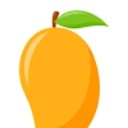mango: (20, 28, 99, 128)
